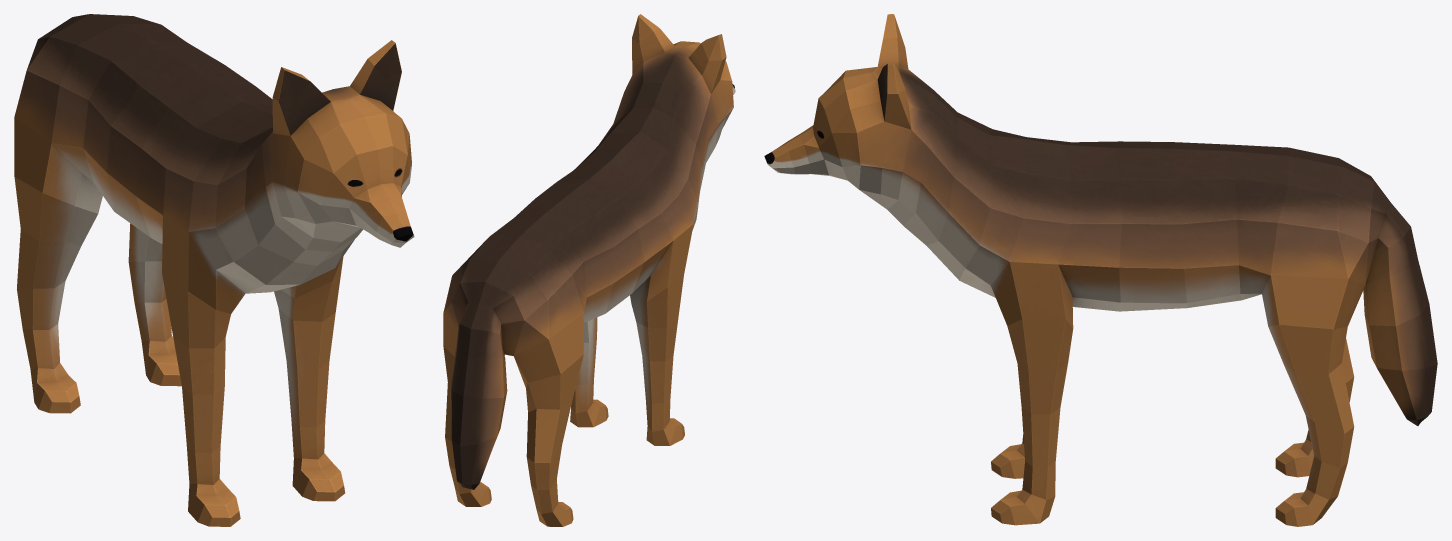
Rendered from prop_pz_coyote.glb.
3 views of the same model, side by side, from view 1: azimuth 30°, elevation 25°; view 2: azimuth 150°, elevation 25°; view 3: azimuth 270°, elevation 25° (orthographic). The views are drawn at different scales.
Visible parts, largest first — view 1: Coyote_Mesh; view 2: Coyote_Mesh; view 3: Coyote_Mesh.
Part boxes in pixels (<box>): Coyote_Mesh: <box>14,14,414,526</box>; Coyote_Mesh: <box>443,14,735,526</box>; Coyote_Mesh: <box>764,14,1437,526</box>.
Size of the model in its own units: 1.8 by 5.11 by 6.85.
1 material, 1 textured.
